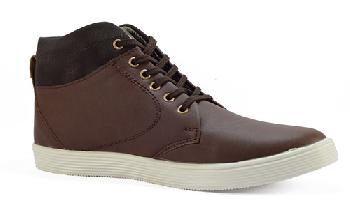Footwear: (22, 17, 341, 194)
